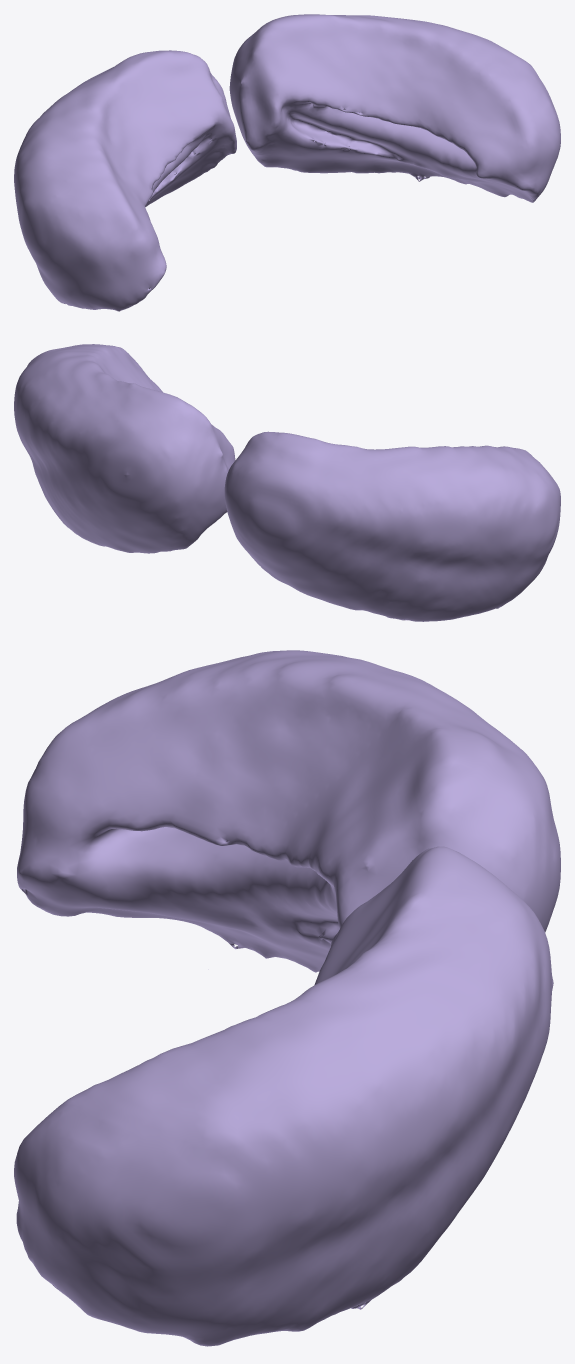
The model's file is cerebellum_crus_lobules.glb.
The picture shows the model from 3 angles, top to bottom: view 1: azimuth 30°, elevation 25°; view 2: azimuth 150°, elevation 25°; view 3: azimuth 270°, elevation 25°; orthographic projection. The views are drawn at different scales.
Visible parts, largest first — view 1: Lobulillos Crus I y Crus II; view 2: Lobulillos Crus I y Crus II; view 3: Lobulillos Crus I y Crus II.
Boxes of the visible parts, box(x1,y1,x2,y2) form: Lobulillos Crus I y Crus II: box(14, 14, 560, 311); Lobulillos Crus I y Crus II: box(14, 344, 560, 621); Lobulillos Crus I y Crus II: box(14, 650, 560, 1346).
Bounding box in the file's own units: 3.92 × 1.38 × 1.85.
